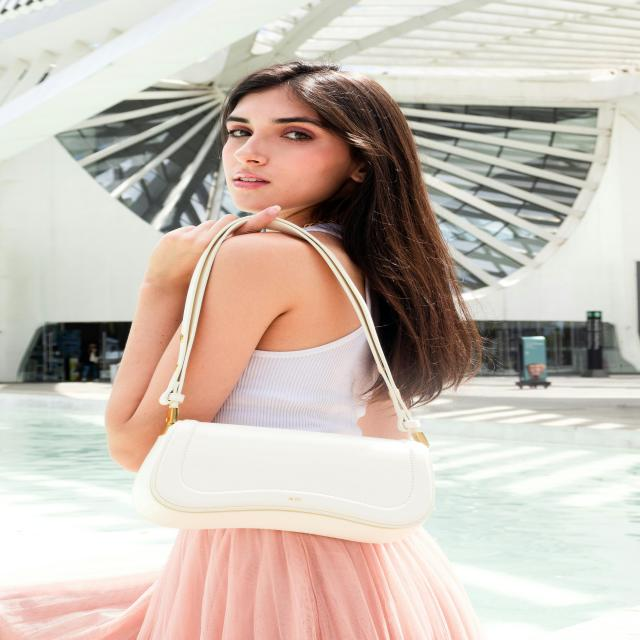bolsa: (126, 210, 438, 544)
